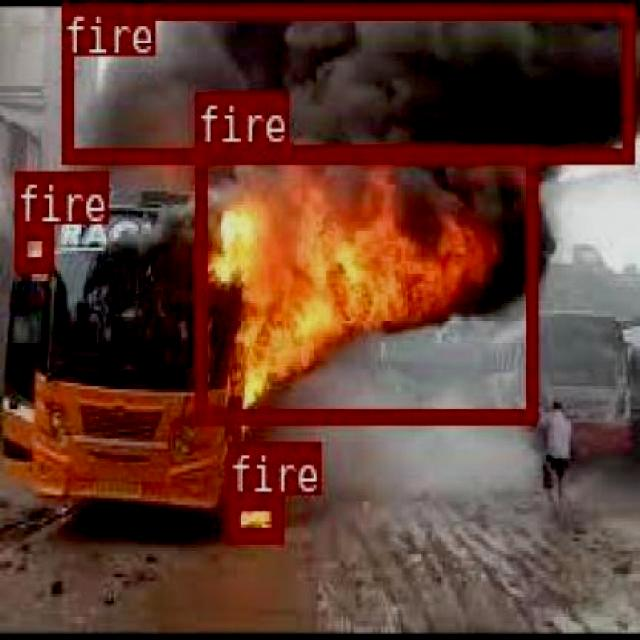fire: (192, 142, 534, 421), (61, 2, 634, 161), (227, 492, 280, 540), (12, 222, 51, 270)
